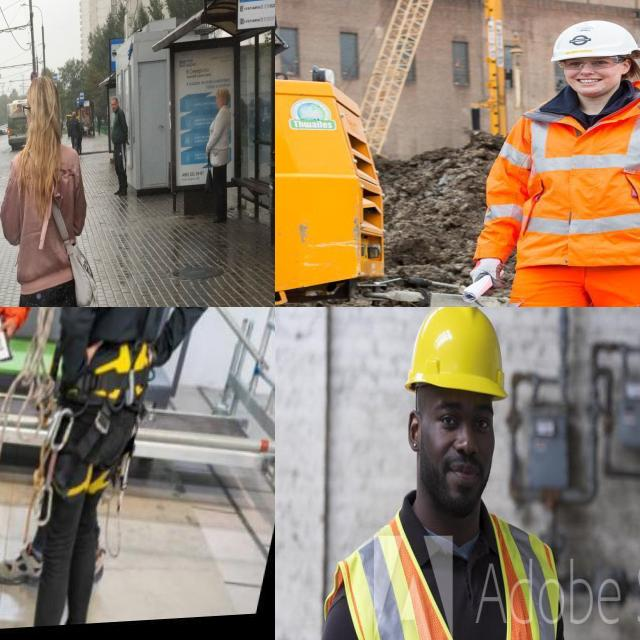Harness: (68, 307, 176, 406)
face_nomask: (418, 376, 500, 501), (558, 49, 614, 105)
glasses: (558, 53, 624, 71)
hand_glove: (458, 245, 524, 305)
head_helmet: (402, 307, 509, 394), (549, 20, 640, 61)
person: (316, 307, 563, 640), (459, 21, 640, 307)
vest: (482, 90, 640, 265), (349, 527, 550, 640)
